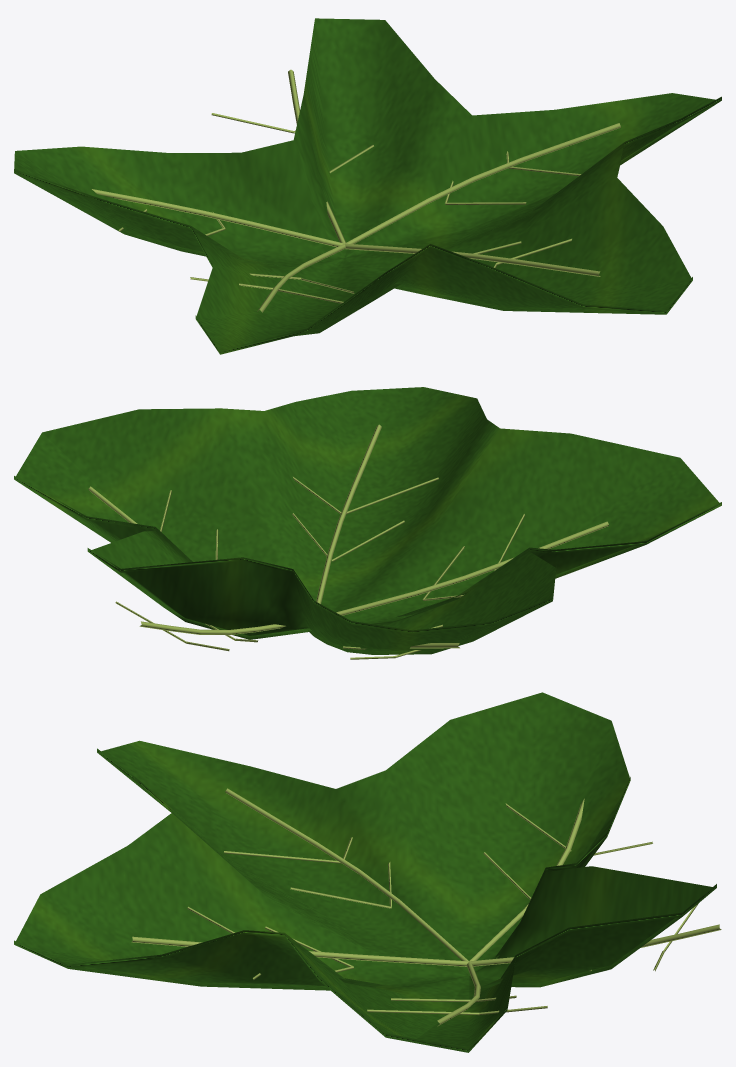
Rendered from asset.glb.
The picture shows the model from 3 angles, top to bottom: view 1: azimuth 30°, elevation 25°; view 2: azimuth 150°, elevation 25°; view 3: azimuth 270°, elevation 25°; orthographic projection. The views are drawn at different scales.
Size of the model in its own units: 0.6318 by 0.1289 by 0.5936.
Materials: 2 (1 with a texture image).
